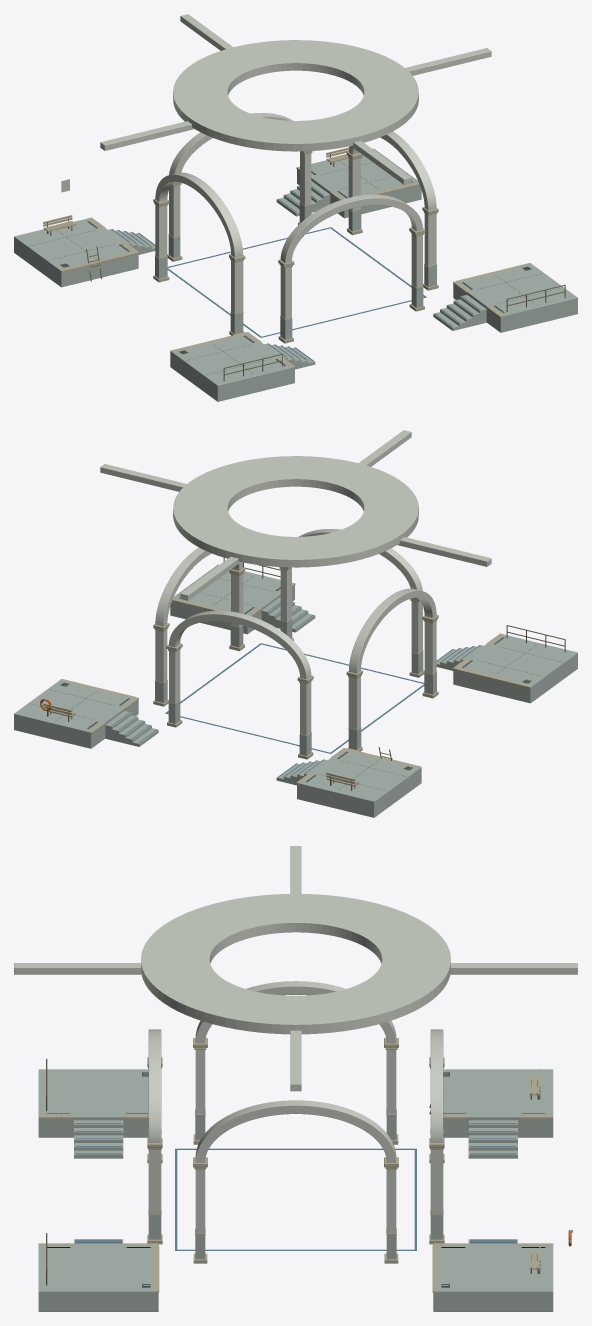
The model's file is quiet-wing-oculus-court.glb.
3 renders of one model, top to bottom at view 1: azimuth 30°, elevation 25°; view 2: azimuth 150°, elevation 25°; view 3: azimuth 270°, elevation 25°, orthographic. The views are drawn at different scales.
Parts seen in each view (by area): view 1: Soft-edged tiled pool terrace (×4), Circular daylight oculus, Court arcade (×4), Warm plaster arcade pier (×8), Plaster oculus support beam (×4); view 2: Soft-edged tiled pool terrace (×4), Circular daylight oculus, Court arcade (×4), Warm plaster arcade pier (×8), Plaster oculus support beam (×4); view 3: Soft-edged tiled pool terrace (×4), Circular daylight oculus, Court arcade (×4), Warm plaster arcade pier (×6), Plaster oculus support beam (×3).
Boxes of the visible parts, x1,y1,x2,y2 form: Soft-edged tiled pool terrace (×4): [14, 148, 577, 401]; Circular daylight oculus: [173, 40, 418, 151]; Court arcade (×4): [155, 113, 436, 263]; Warm plaster arcade pier (×8): [155, 152, 436, 319]; Plaster oculus support beam (×4): [100, 14, 491, 184]; Soft-edged tiled pool terrace (×4): [14, 564, 577, 817]; Circular daylight oculus: [173, 456, 418, 567]; Court arcade (×4): [155, 529, 436, 679]; Warm plaster arcade pier (×8): [155, 568, 436, 735]; Plaster oculus support beam (×4): [100, 430, 491, 600]; Soft-edged tiled pool terrace (×4): [38, 1069, 553, 1311]; Circular daylight oculus: [141, 893, 450, 1034]; Court arcade (×4): [148, 981, 443, 1162]; Warm plaster arcade pier (×6): [148, 1050, 443, 1233]; Plaster oculus support beam (×3): [14, 963, 577, 1091].
Size of the model in its own units: 32 by 15.14 by 32.
